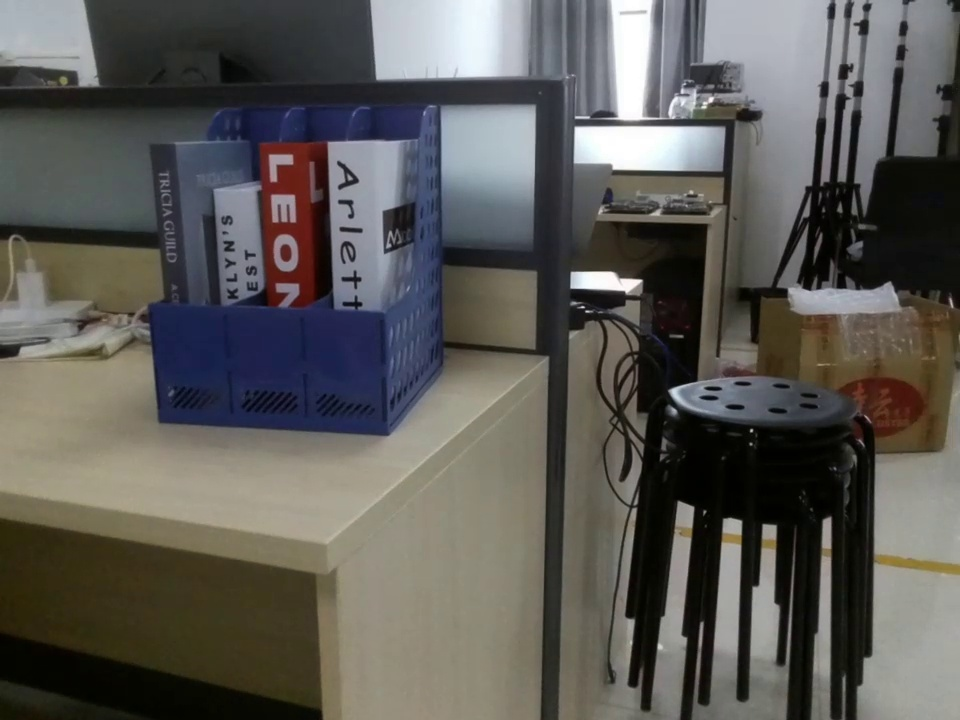files: (147, 103, 449, 436)
